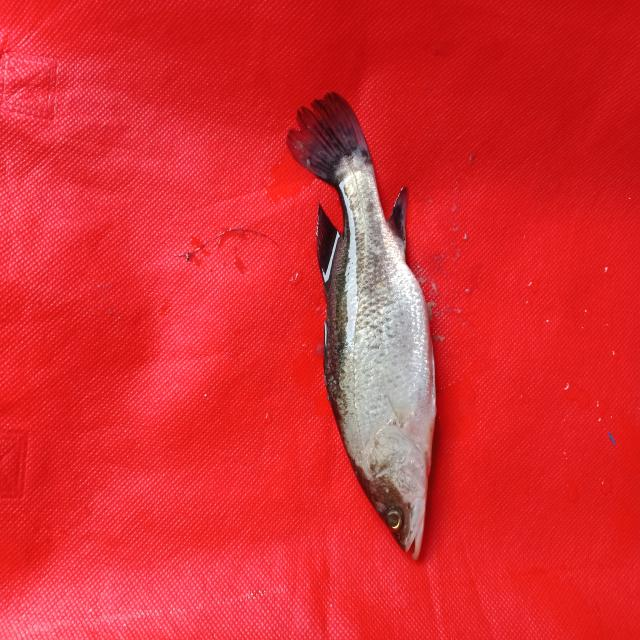ikan: (280, 82, 476, 582)
